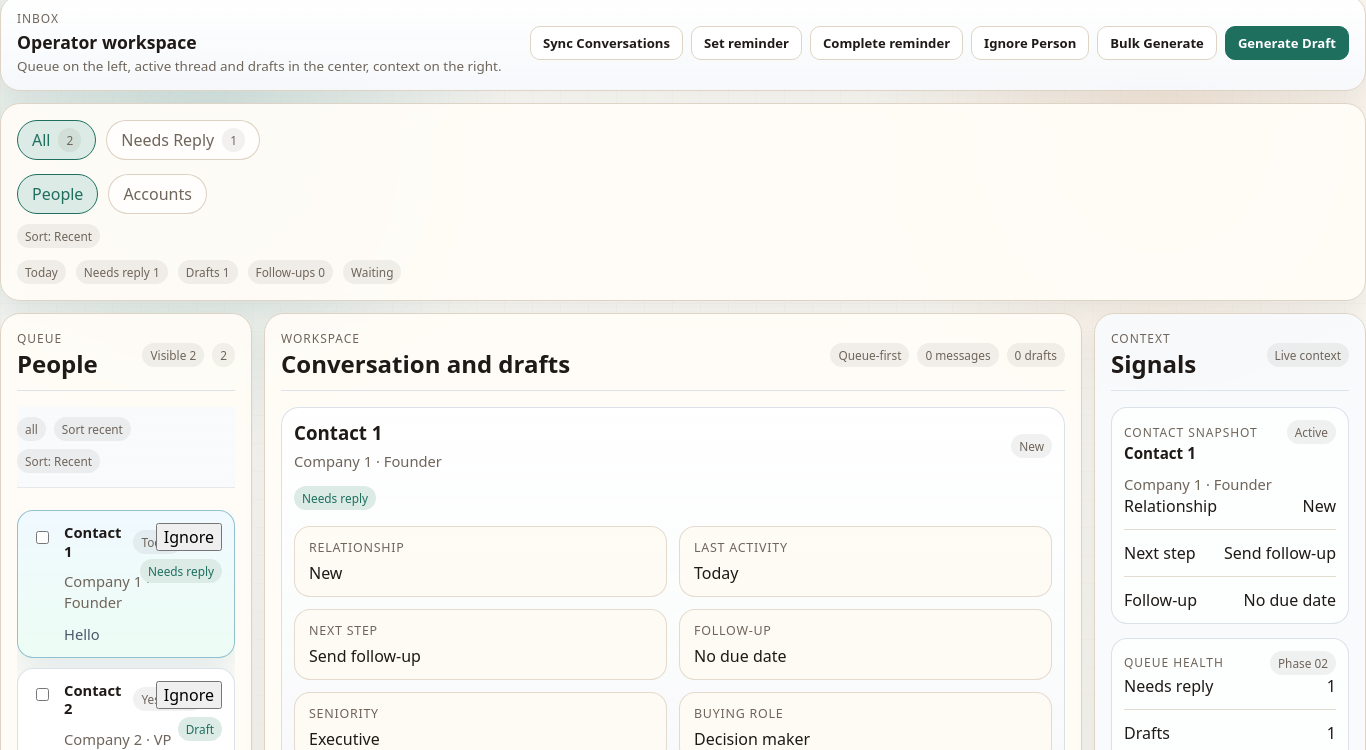
Test: InboxWorkspace bulk draft flow › surfaces a failed manual sync when the worker reports a failed sync run
This screenshot has width=1366, height=750.
Click the button "Sync Conversations".
click(606, 43)  # box [530,26,683,60]
(page scrolled)
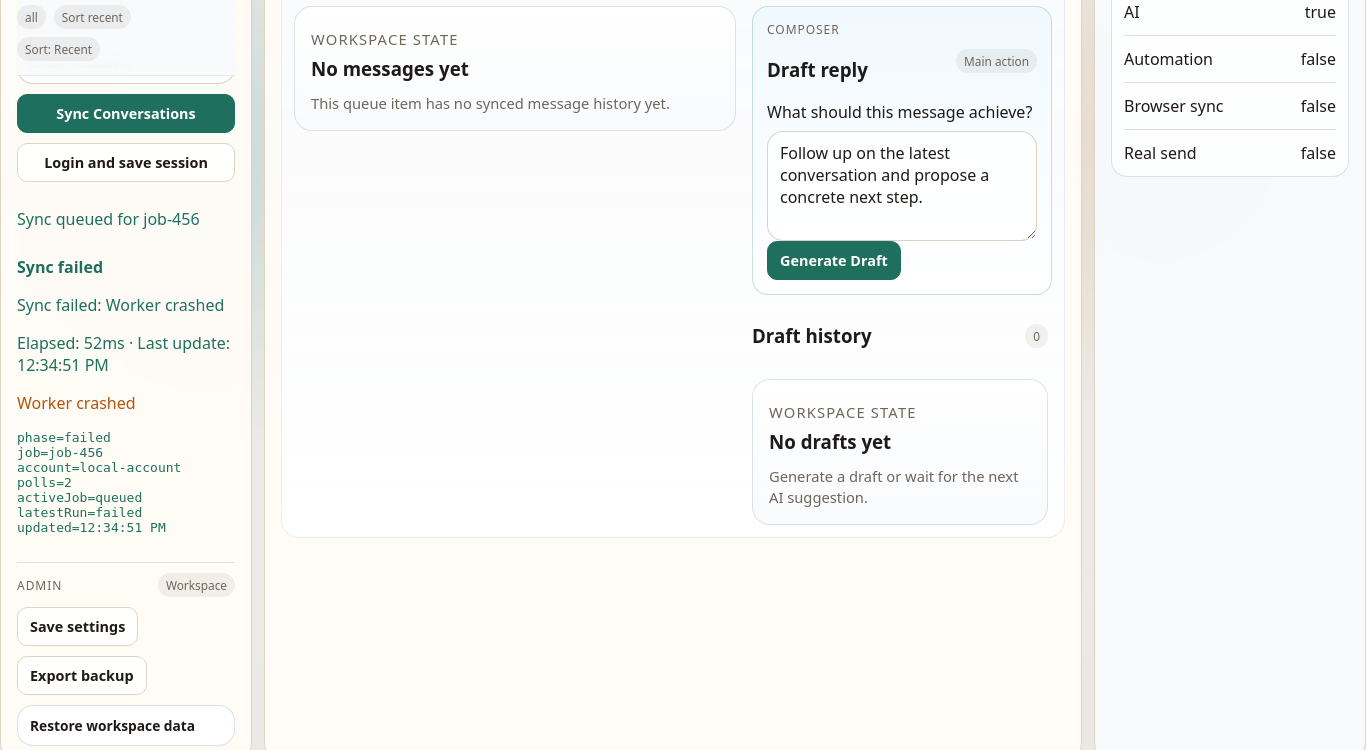
Result: the text "Sync queued for job-456" is shown at [17,208,200,230]
Result: the text "Sync failed" is shown at [17,256,103,278]
Result: the text "Sync failed: Worker crashed" is shown at [17,294,235,316]
